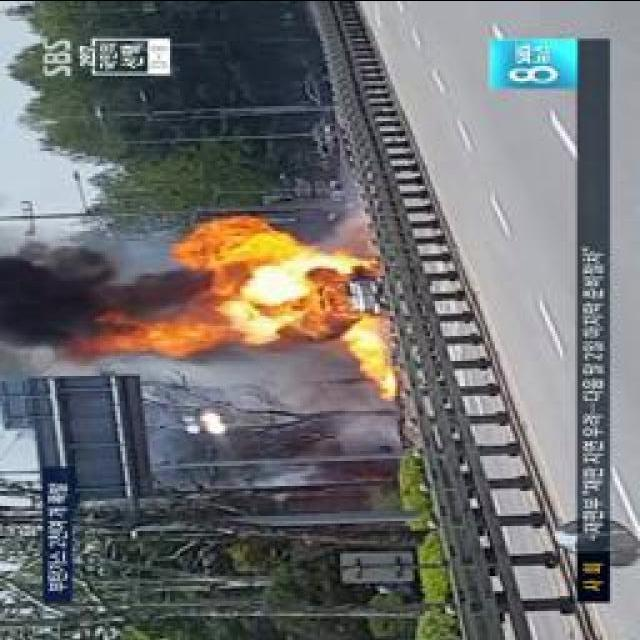Fire: (204, 214, 324, 334), (353, 313, 399, 379)
